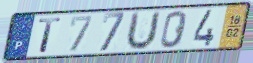0: (159, 9, 189, 50)
4: (192, 8, 216, 48)
7: (100, 11, 126, 54), (68, 14, 94, 54)
T: (37, 17, 63, 55)
U: (123, 9, 163, 52)
